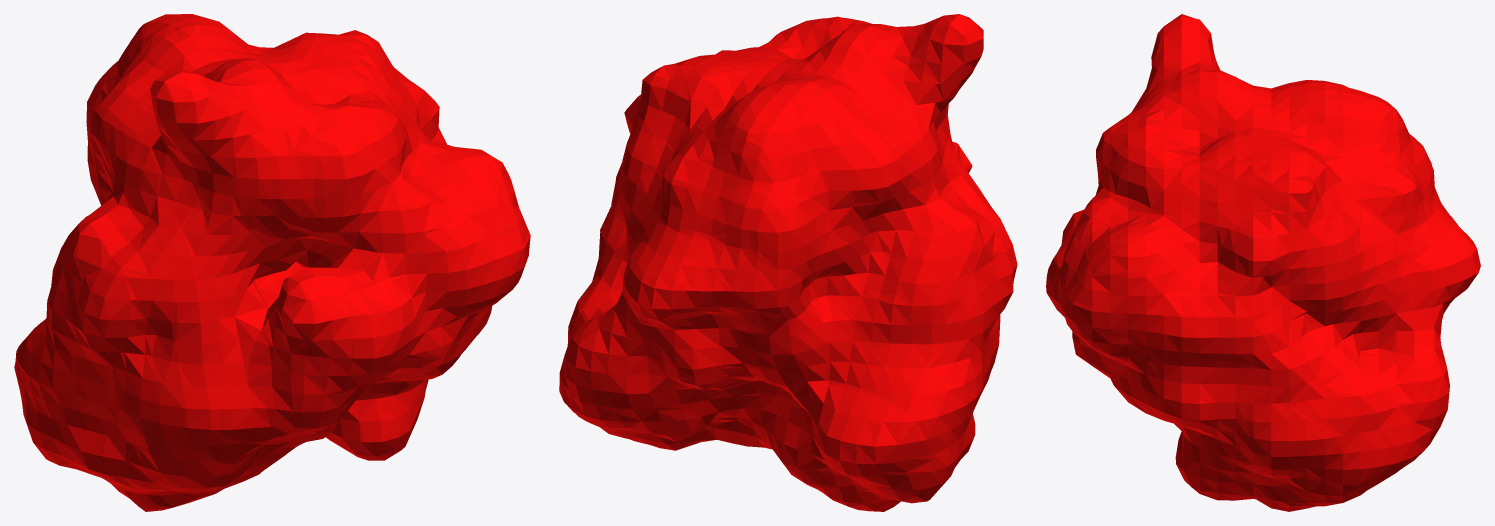
File: cysI_coarse.dae
3 renders of one model, left to right at view 1: azimuth 30°, elevation 25°; view 2: azimuth 150°, elevation 25°; view 3: azimuth 270°, elevation 25°, orthographic. The views are drawn at different scales.
Visible parts, largest first — view 1: cysI; view 2: cysI; view 3: cysI.
Boxes of the visible parts, x1,y1,x2,y2 form: cysI: (14, 14, 530, 511); cysI: (559, 14, 1017, 511); cysI: (1046, 14, 1480, 511).
Size of the model in its own units: 60.99 by 70.04 by 66.21.
